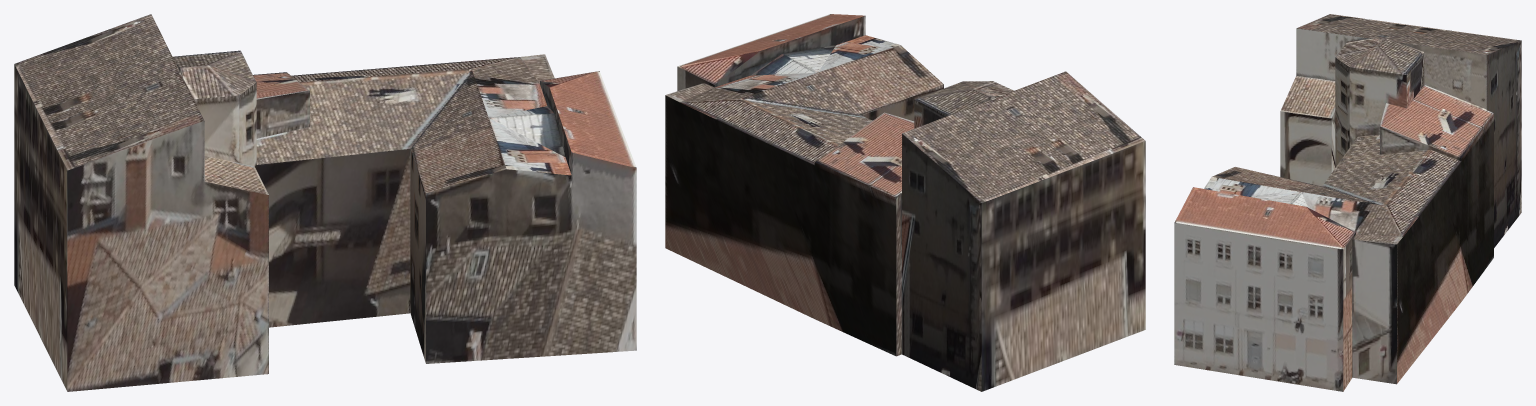
3 renders of one model, left to right at view 1: azimuth 30°, elevation 25°; view 2: azimuth 150°, elevation 25°; view 3: azimuth 270°, elevation 25°, orthographic. The views are drawn at different scales.
Parts seen in each view (by area): view 1: Z_UP; view 2: Z_UP; view 3: Z_UP.
Part boxes in pixels (bbox=[...]): Z_UP: bbox=[14, 14, 636, 391]; Z_UP: bbox=[665, 14, 1145, 391]; Z_UP: bbox=[1174, 14, 1521, 391].
Size of the model in its own units: 37.22 by 17.29 by 26.56.
Materials: 2 (1 with a texture image).
